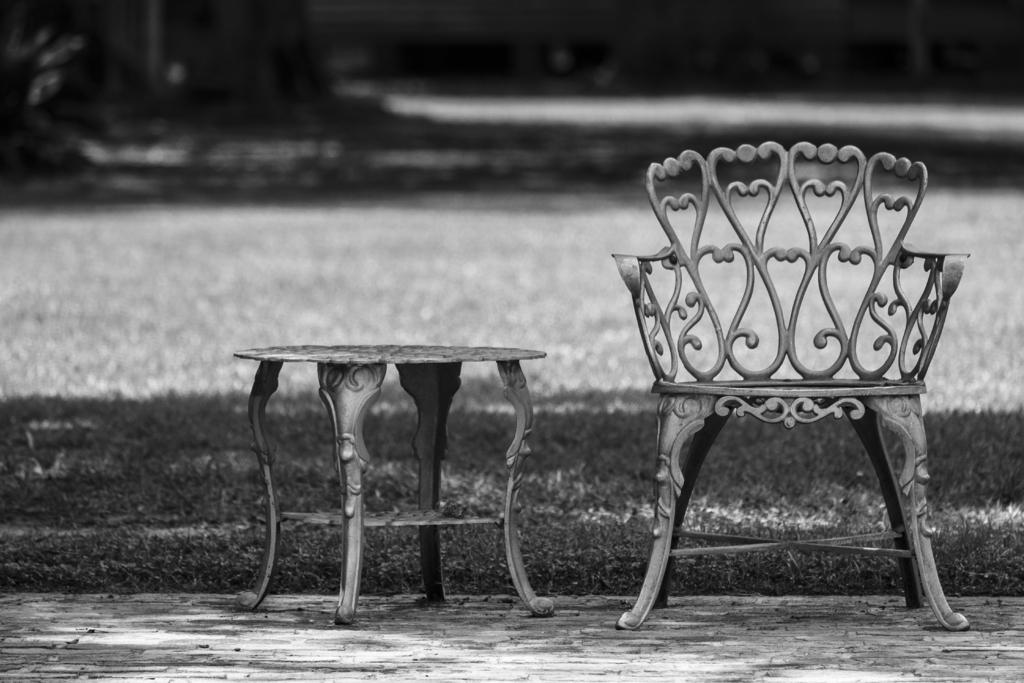Chair: (604, 138, 973, 632)
